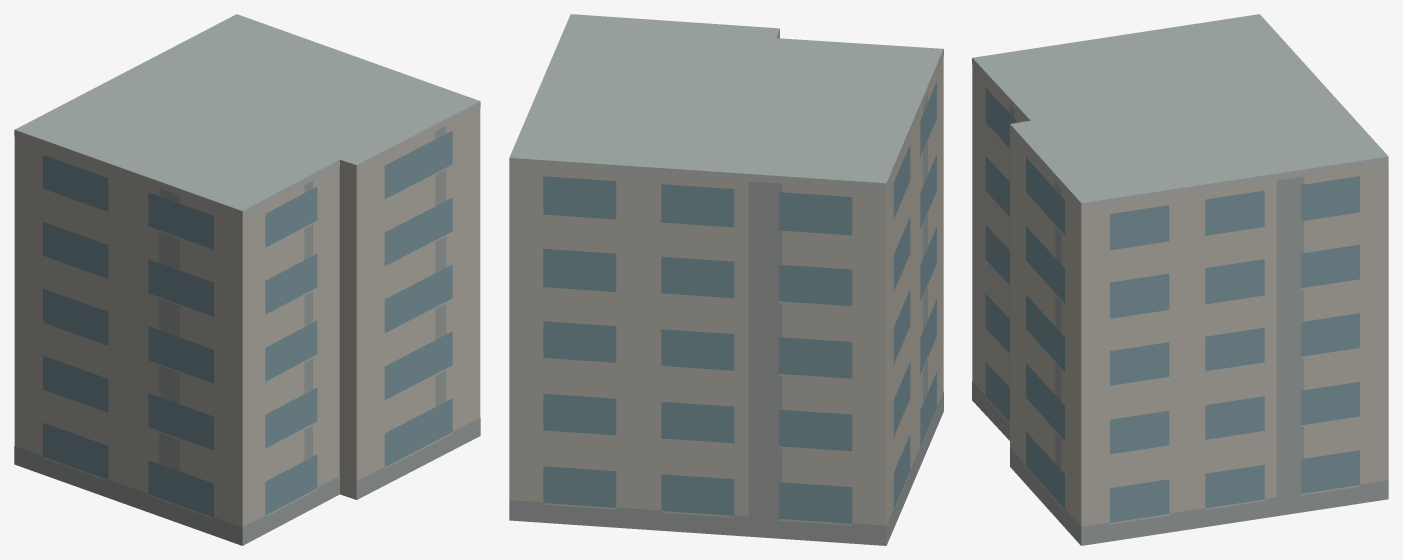
File: survey-upis-32852358.glb
3 renders of one model, left to right at view 1: azimuth 30°, elevation 25°; view 2: azimuth 150°, elevation 25°; view 3: azimuth 270°, elevation 25°, orthographic. The views are drawn at different scales.
Visible parts, largest first — view 1: survey-upis-32852358.tmp; view 2: survey-upis-32852358.tmp; view 3: survey-upis-32852358.tmp.
Boxes of the visible parts, <box> form: survey-upis-32852358.tmp: <box>14,14,480,545</box>; survey-upis-32852358.tmp: <box>509,14,943,545</box>; survey-upis-32852358.tmp: <box>972,14,1388,545</box>.
Size of the model in its own units: 13.99 by 11.81 by 13.02.
